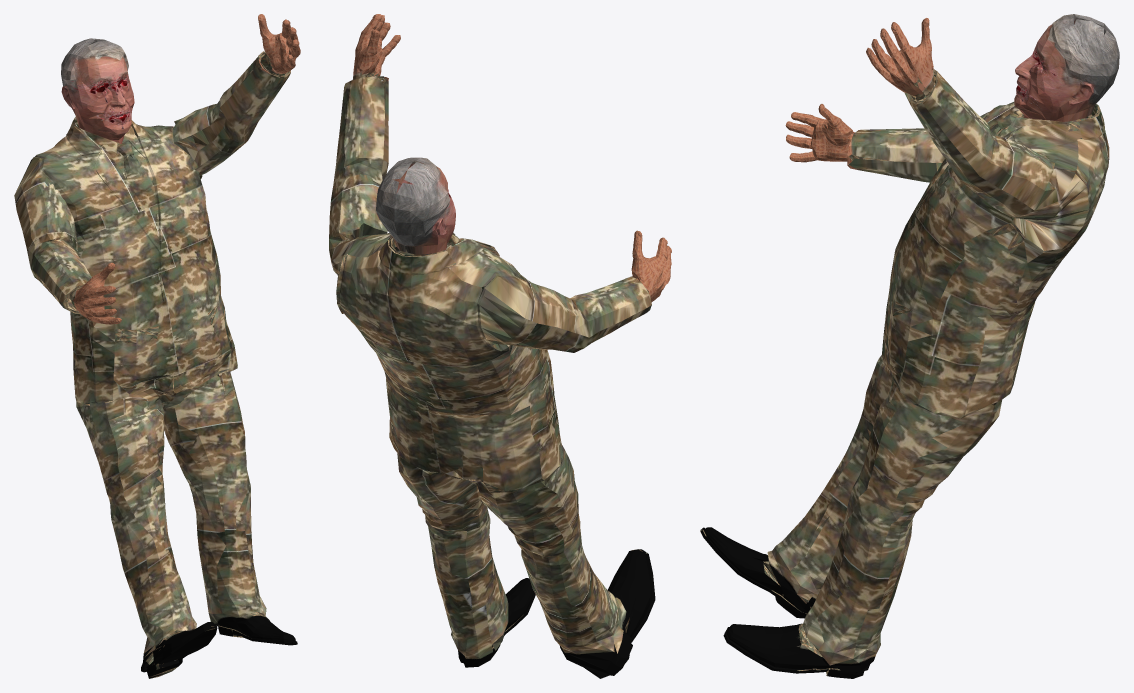
The model's file is zombie_000059.obj.
3 views of the same model, side by side, from view 1: azimuth 30°, elevation 25°; view 2: azimuth 150°, elevation 25°; view 3: azimuth 270°, elevation 25° (orthographic). The views are drawn at different scales.
Parts seen in each view (by area): view 1: Suit_coat_orig_9___De, objGeo_Hea_orig_9___D; view 2: Suit_coat_orig_9___De, objGeo_Hea_orig_9___D; view 3: Suit_coat_orig_9___De, objGeo_Hea_orig_9___D.
Boxes of the visible parts, x1,y1,x2,y2 form: Suit_coat_orig_9___De: (14, 14, 300, 678); objGeo_Hea_orig_9___D: (61, 38, 134, 143); Suit_coat_orig_9___De: (329, 14, 671, 678); objGeo_Hea_orig_9___D: (376, 157, 455, 254); Suit_coat_orig_9___De: (700, 18, 1109, 678); objGeo_Hea_orig_9___D: (1014, 14, 1119, 121).
Bounding box in the file's own units: 0.8688 × 1.93 × 1.06.
